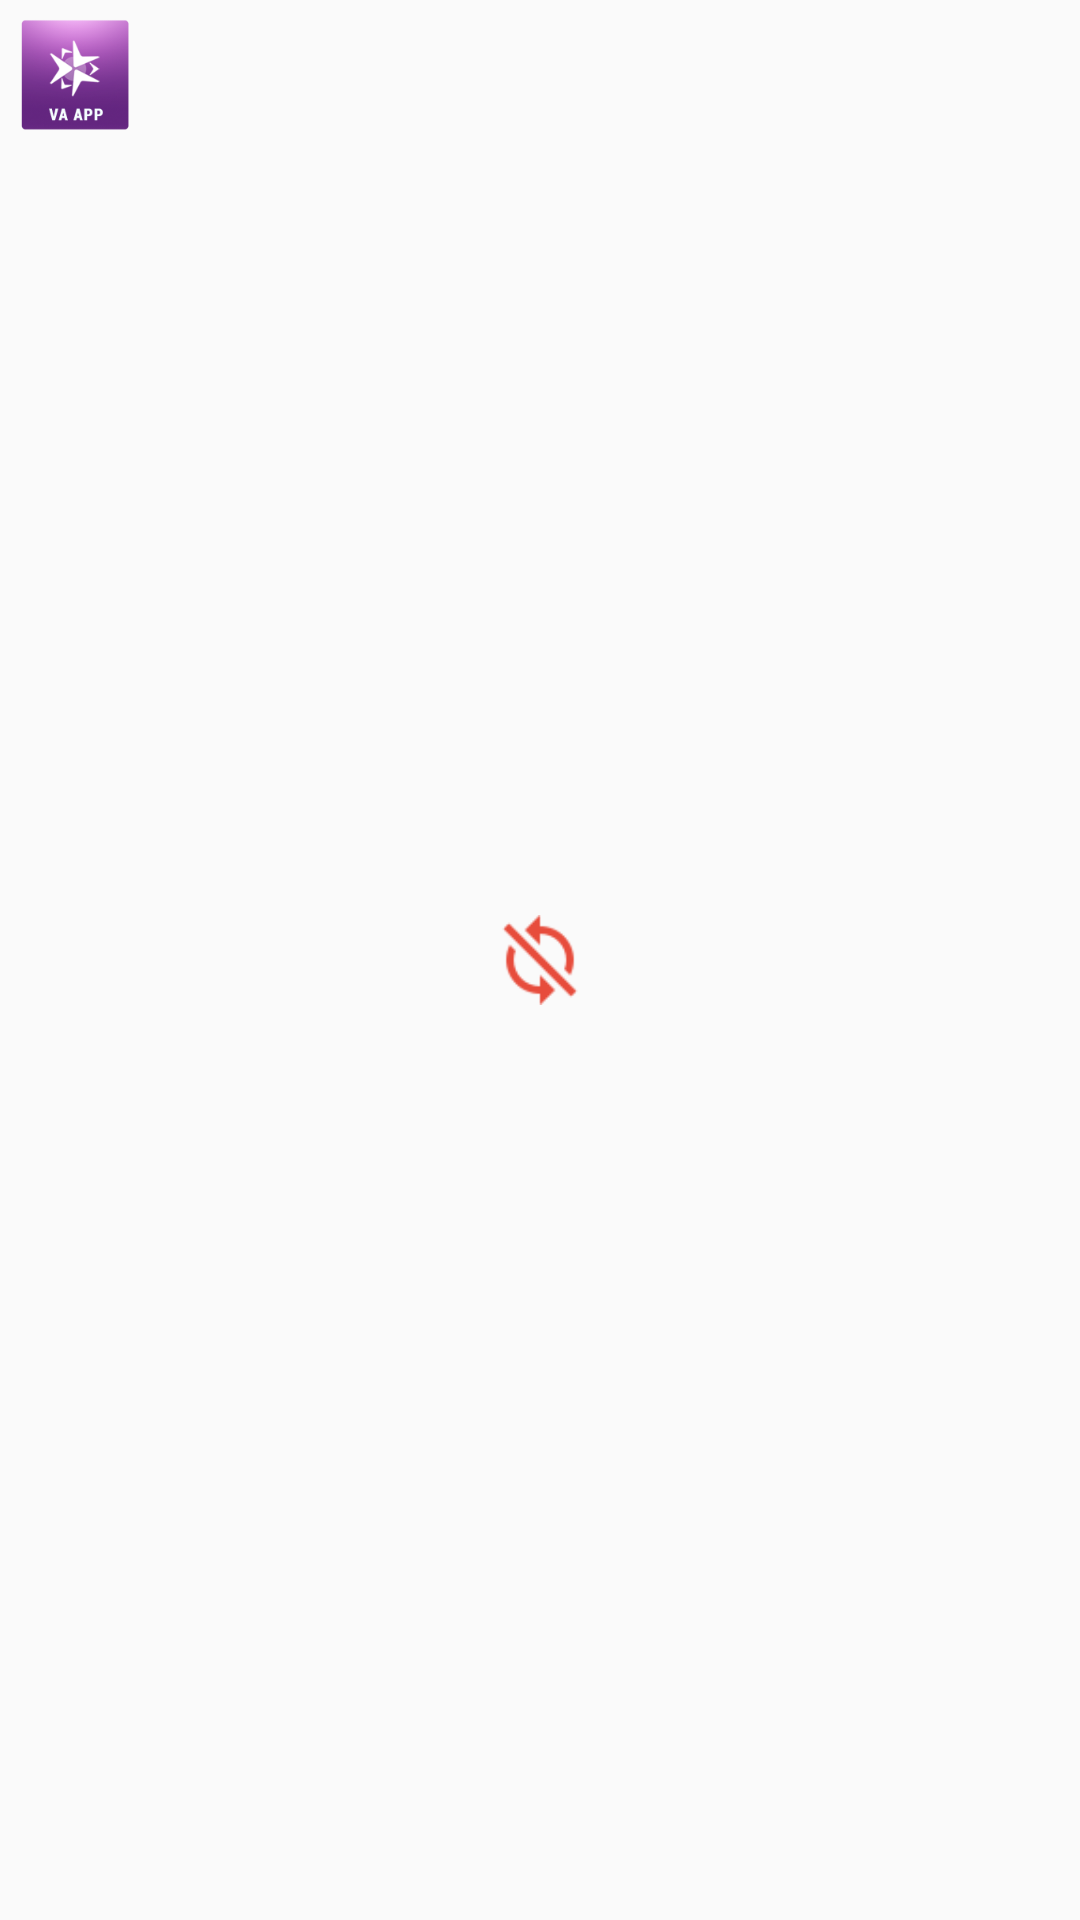

Named icons in this screenshot (1080 × 1920) and their centers, (x=x, y=y):
not sync: (x=540, y=960)
